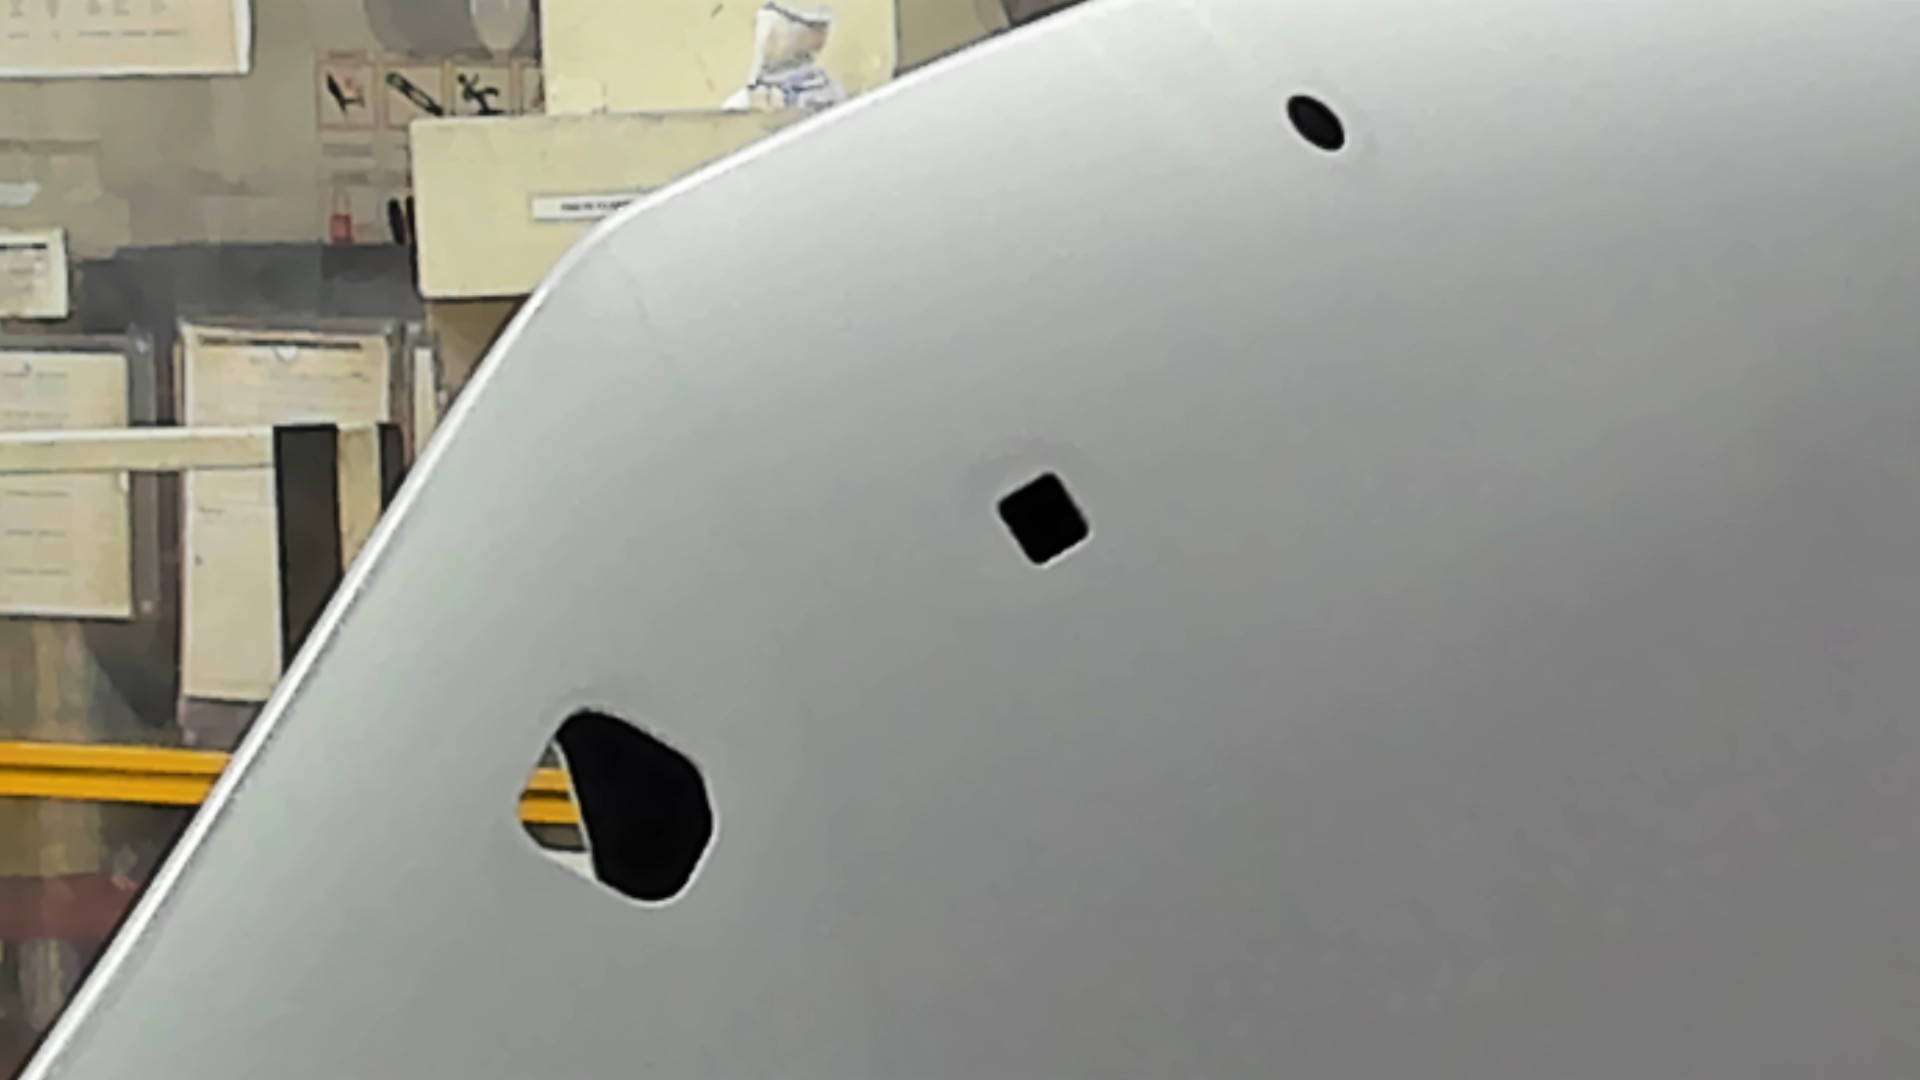chico: (1282, 87, 1348, 156)
grande: (508, 700, 727, 913)
mediano: (986, 463, 1101, 576)
